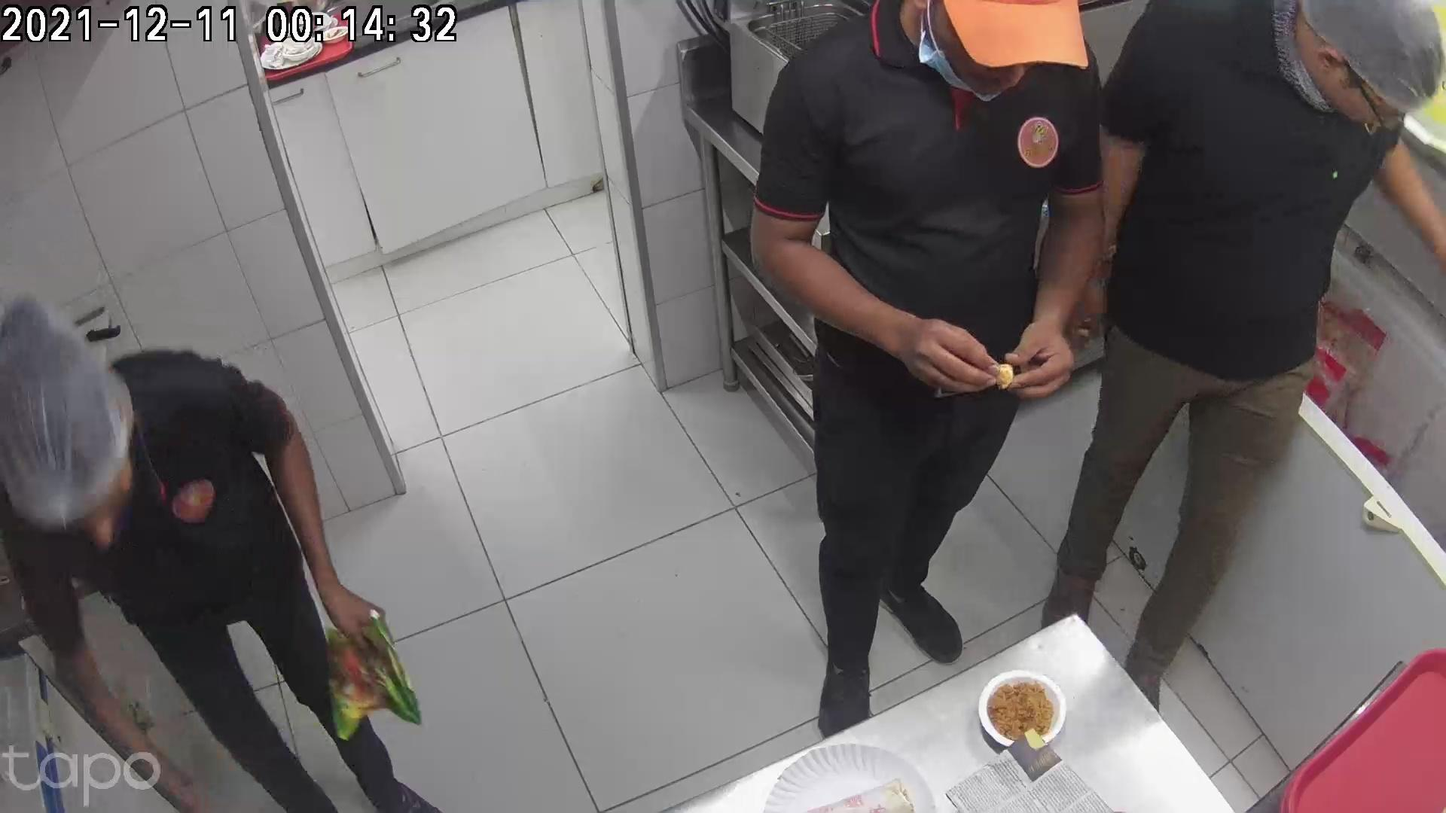no_gloves: (621, 294, 763, 407)
